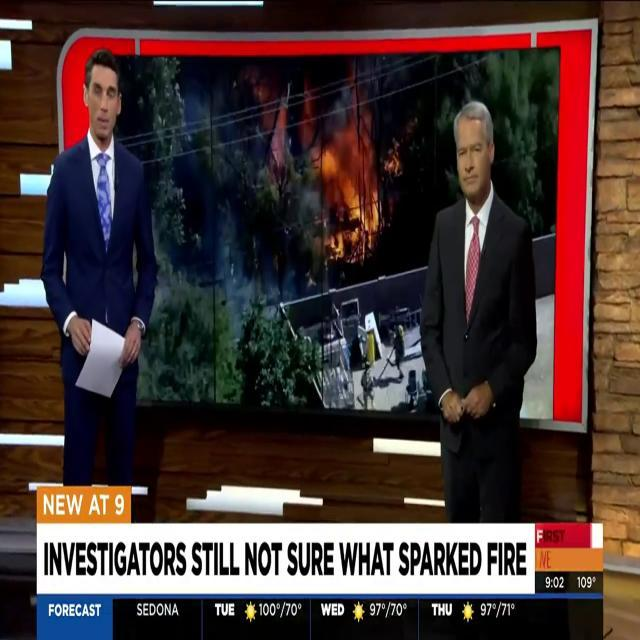Fire: (311, 92, 383, 260), (36, 480, 136, 522)
